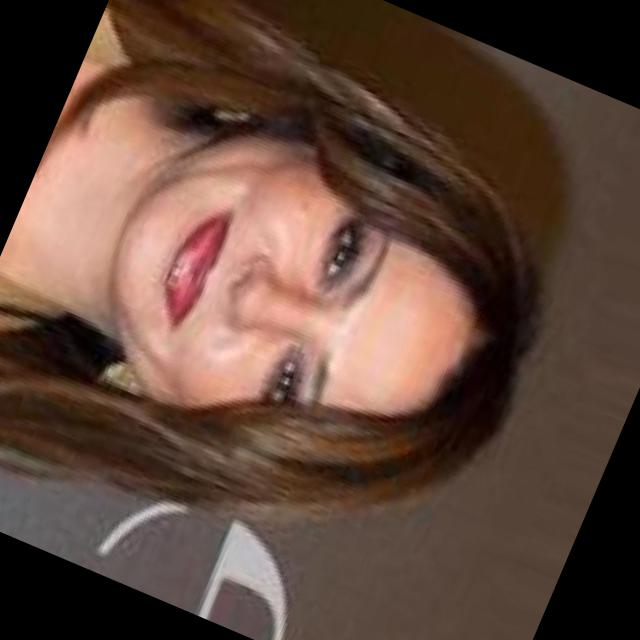bareface: (70, 85, 554, 522)
